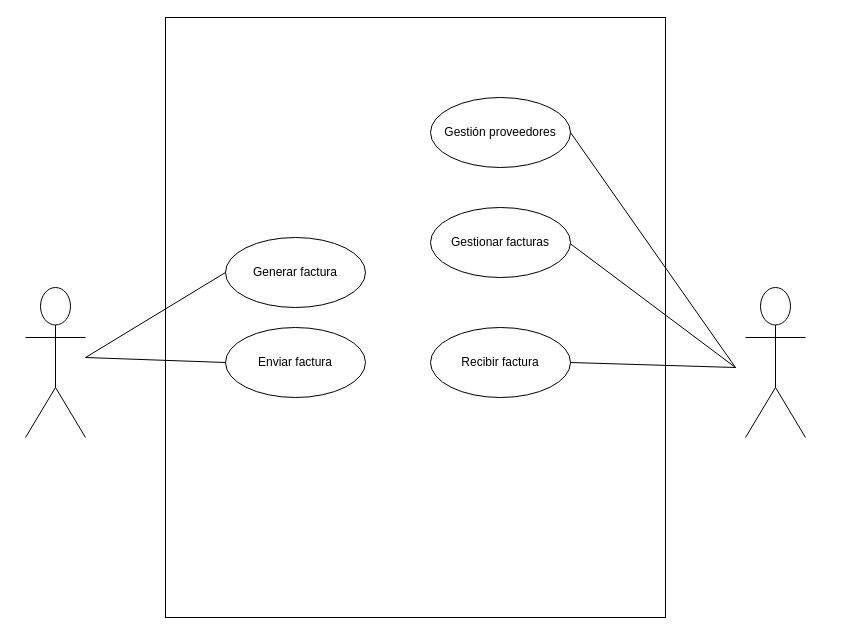
The diagram is 843 pixels wide and 635 high, and some of its shapes have lost their labels. Here are the shapes that lost their labels. From the top down, the centre of each, then its label:
the point at 55,362: PROVEEDOR
the point at 775,362: ADMINISTRADOR
